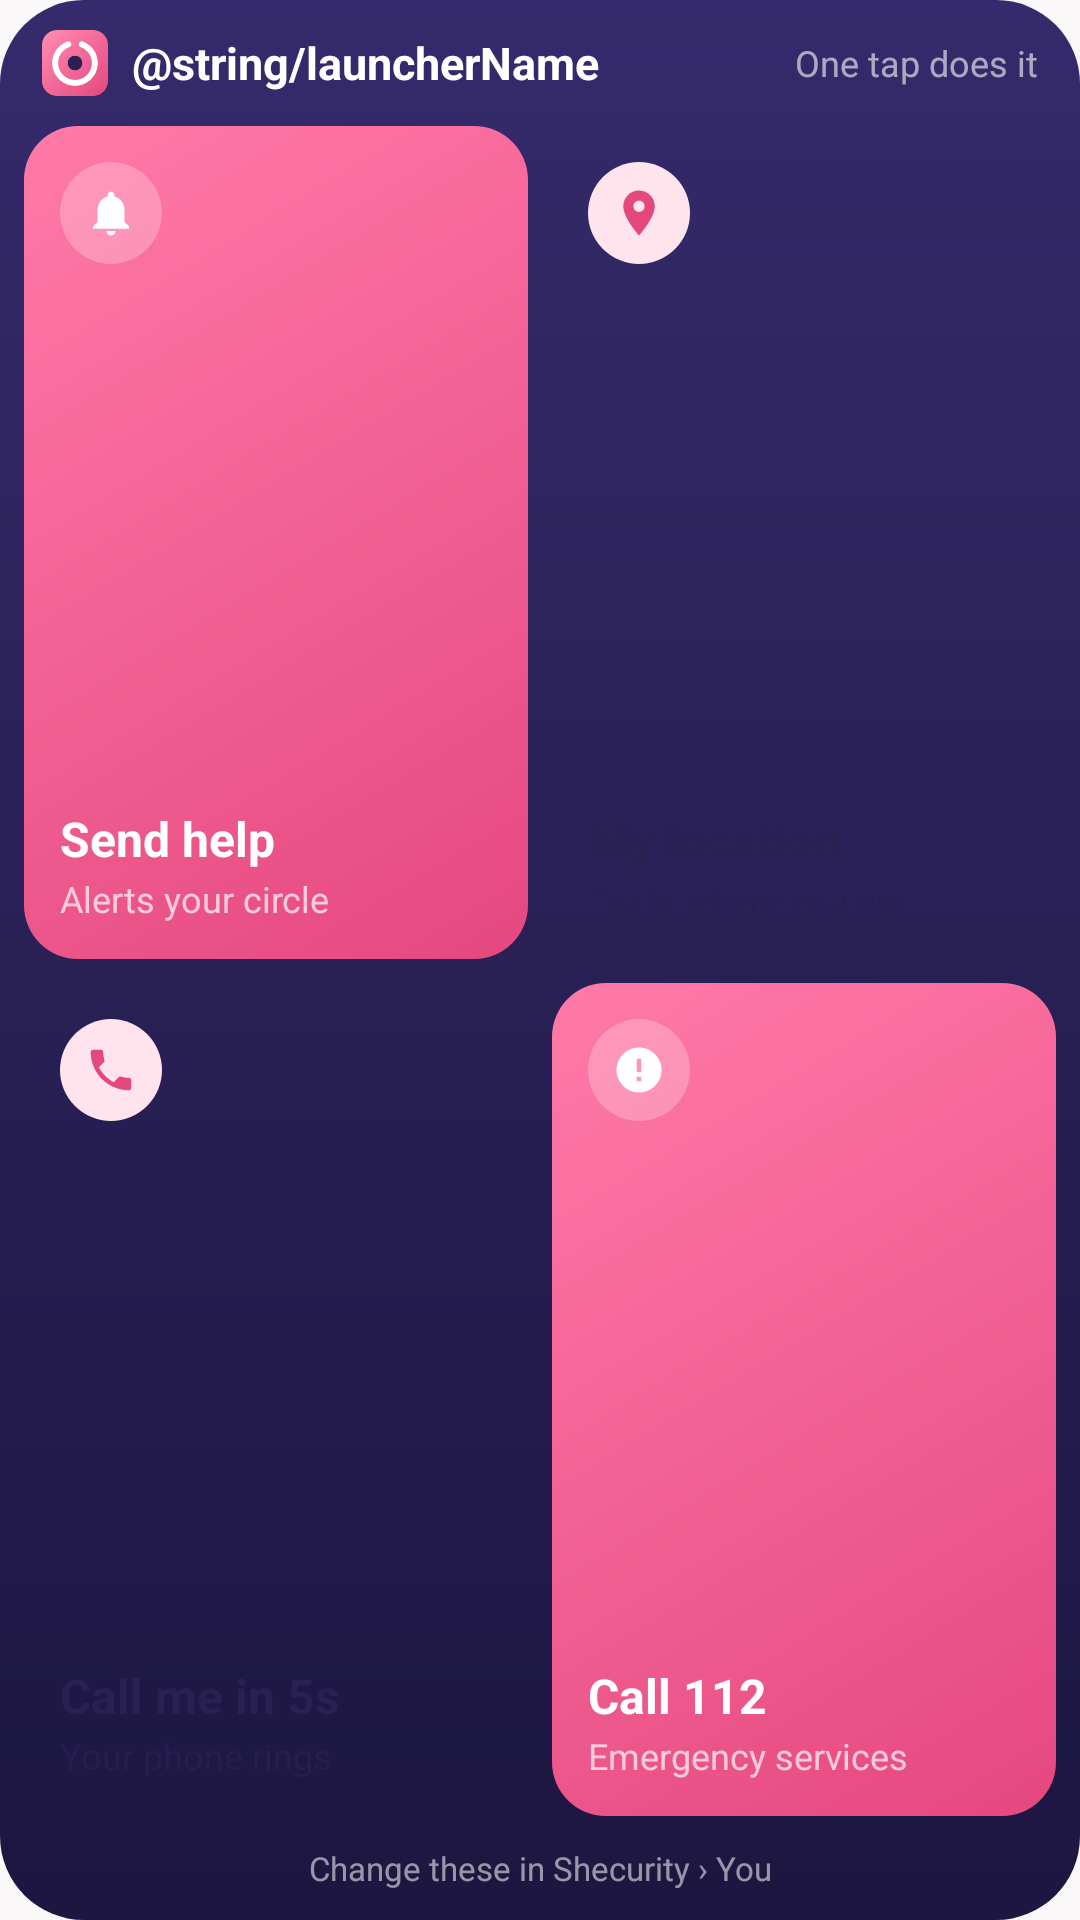

Icons on this 1080 x 1920 Android screen, each with the point to tap as (x=x, y=y):
bell: (x=111, y=213)
phone: (x=111, y=1070)
pin: (x=639, y=213)
